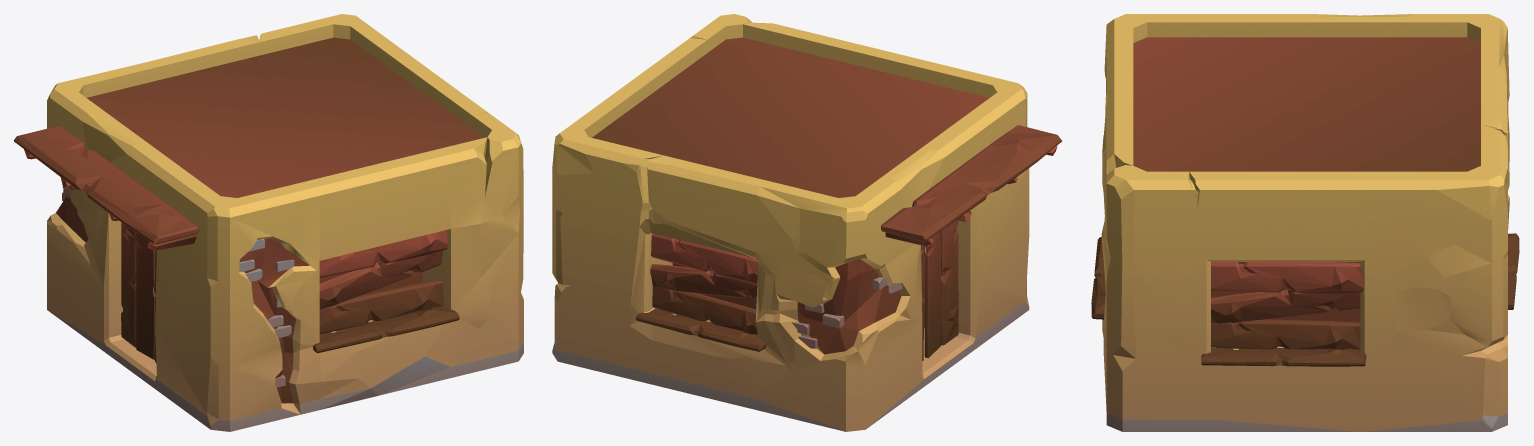
3 renders of one model, left to right at view 1: azimuth 30°, elevation 25°; view 2: azimuth 150°, elevation 25°; view 3: azimuth 270°, elevation 25°, orthographic. The views are drawn at different scales.
Parts seen in each view (by area): view 1: House1; view 2: House1; view 3: House1.
Boxes of the visible parts, <box> form: House1: <box>14,14,523,431</box>; House1: <box>552,14,1062,431</box>; House1: <box>1091,14,1519,431</box>.
Size of the model in its own units: 7.41 by 4.17 by 6.5.
Materials: 1 (1 with a texture image).
